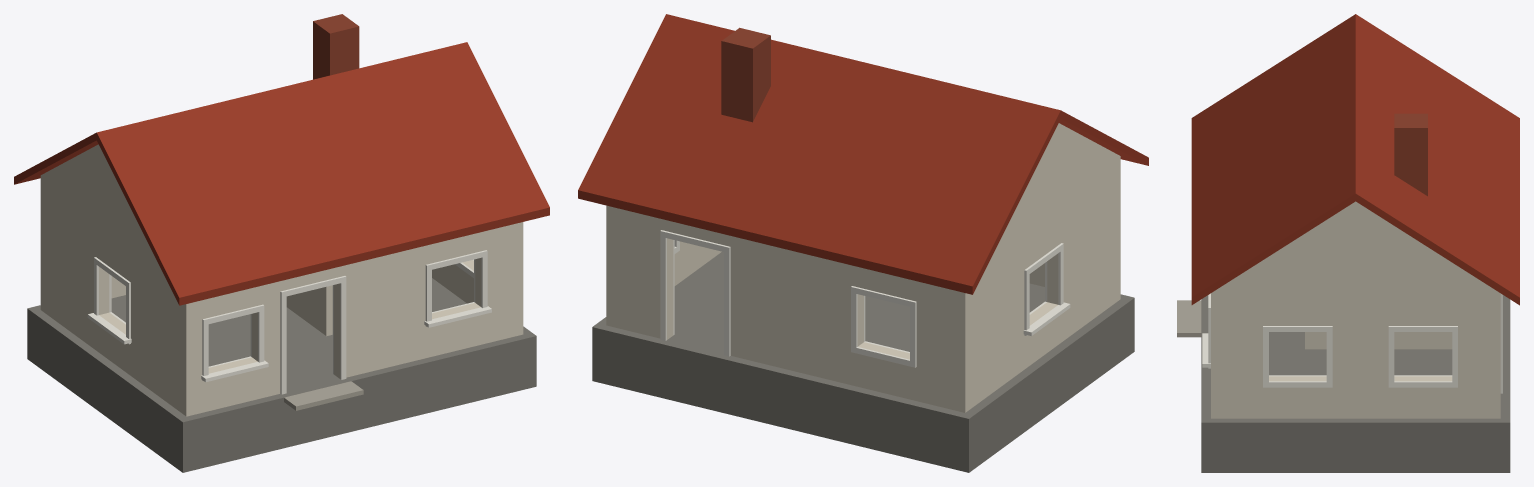
File: house.glb
3 views of the same model, side by side, from view 1: azimuth 30°, elevation 25°; view 2: azimuth 150°, elevation 25°; view 3: azimuth 270°, elevation 25° (orthographic). The views are drawn at different scales.
Parts seen in each view (by area): view 1: house; view 2: house; view 3: house.
Part boxes in pixels (box(x1,y1,x2,y2)): house: box(14, 14, 549, 472); house: box(578, 14, 1148, 472); house: box(1177, 14, 1519, 472).
Bounding box in the file's own units: 8.8 × 7 × 7.1.
